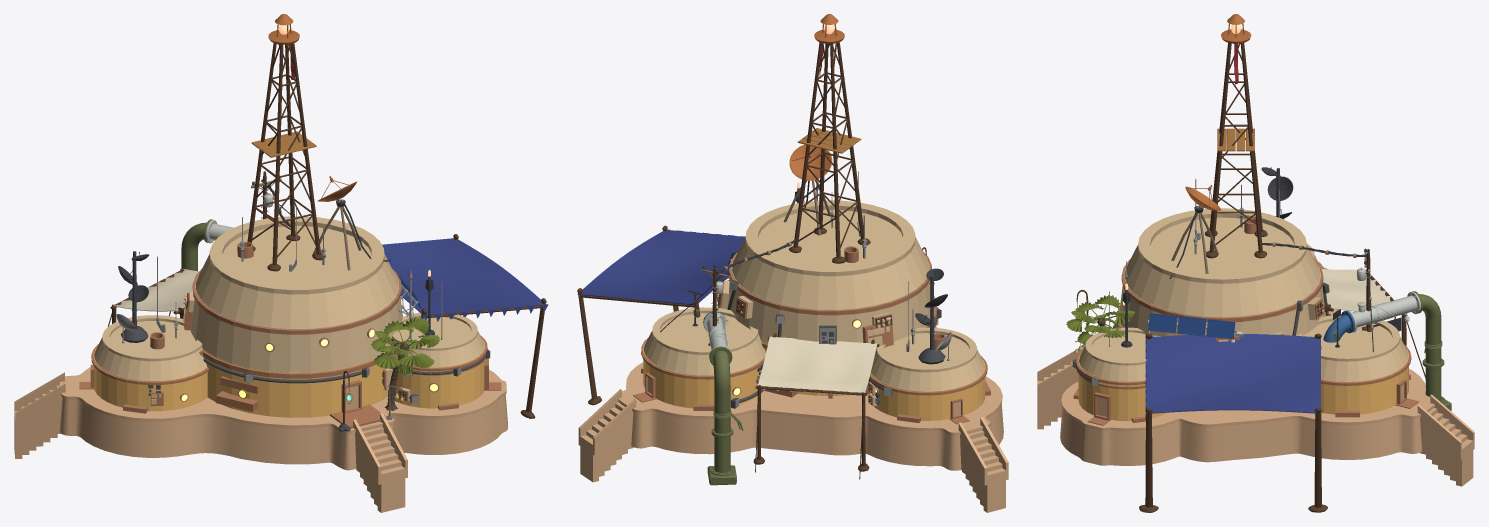
File: nomad_building_b20.fbx
The picture shows the model from 3 angles, left to right: view 1: azimuth 30°, elevation 25°; view 2: azimuth 150°, elevation 25°; view 3: azimuth 270°, elevation 25°; orthographic projection. The views are drawn at different scales.
Visible parts, largest first — view 1: NomadBuilding_B20; view 2: NomadBuilding_B20; view 3: NomadBuilding_B20.
Part boxes in pixels (<box>): NomadBuilding_B20: <box>14,14,548,512</box>; NomadBuilding_B20: <box>577,14,1008,512</box>; NomadBuilding_B20: <box>1037,14,1474,512</box>.
Bounding box in the file's own units: 6175 × 5602 × 5461.
